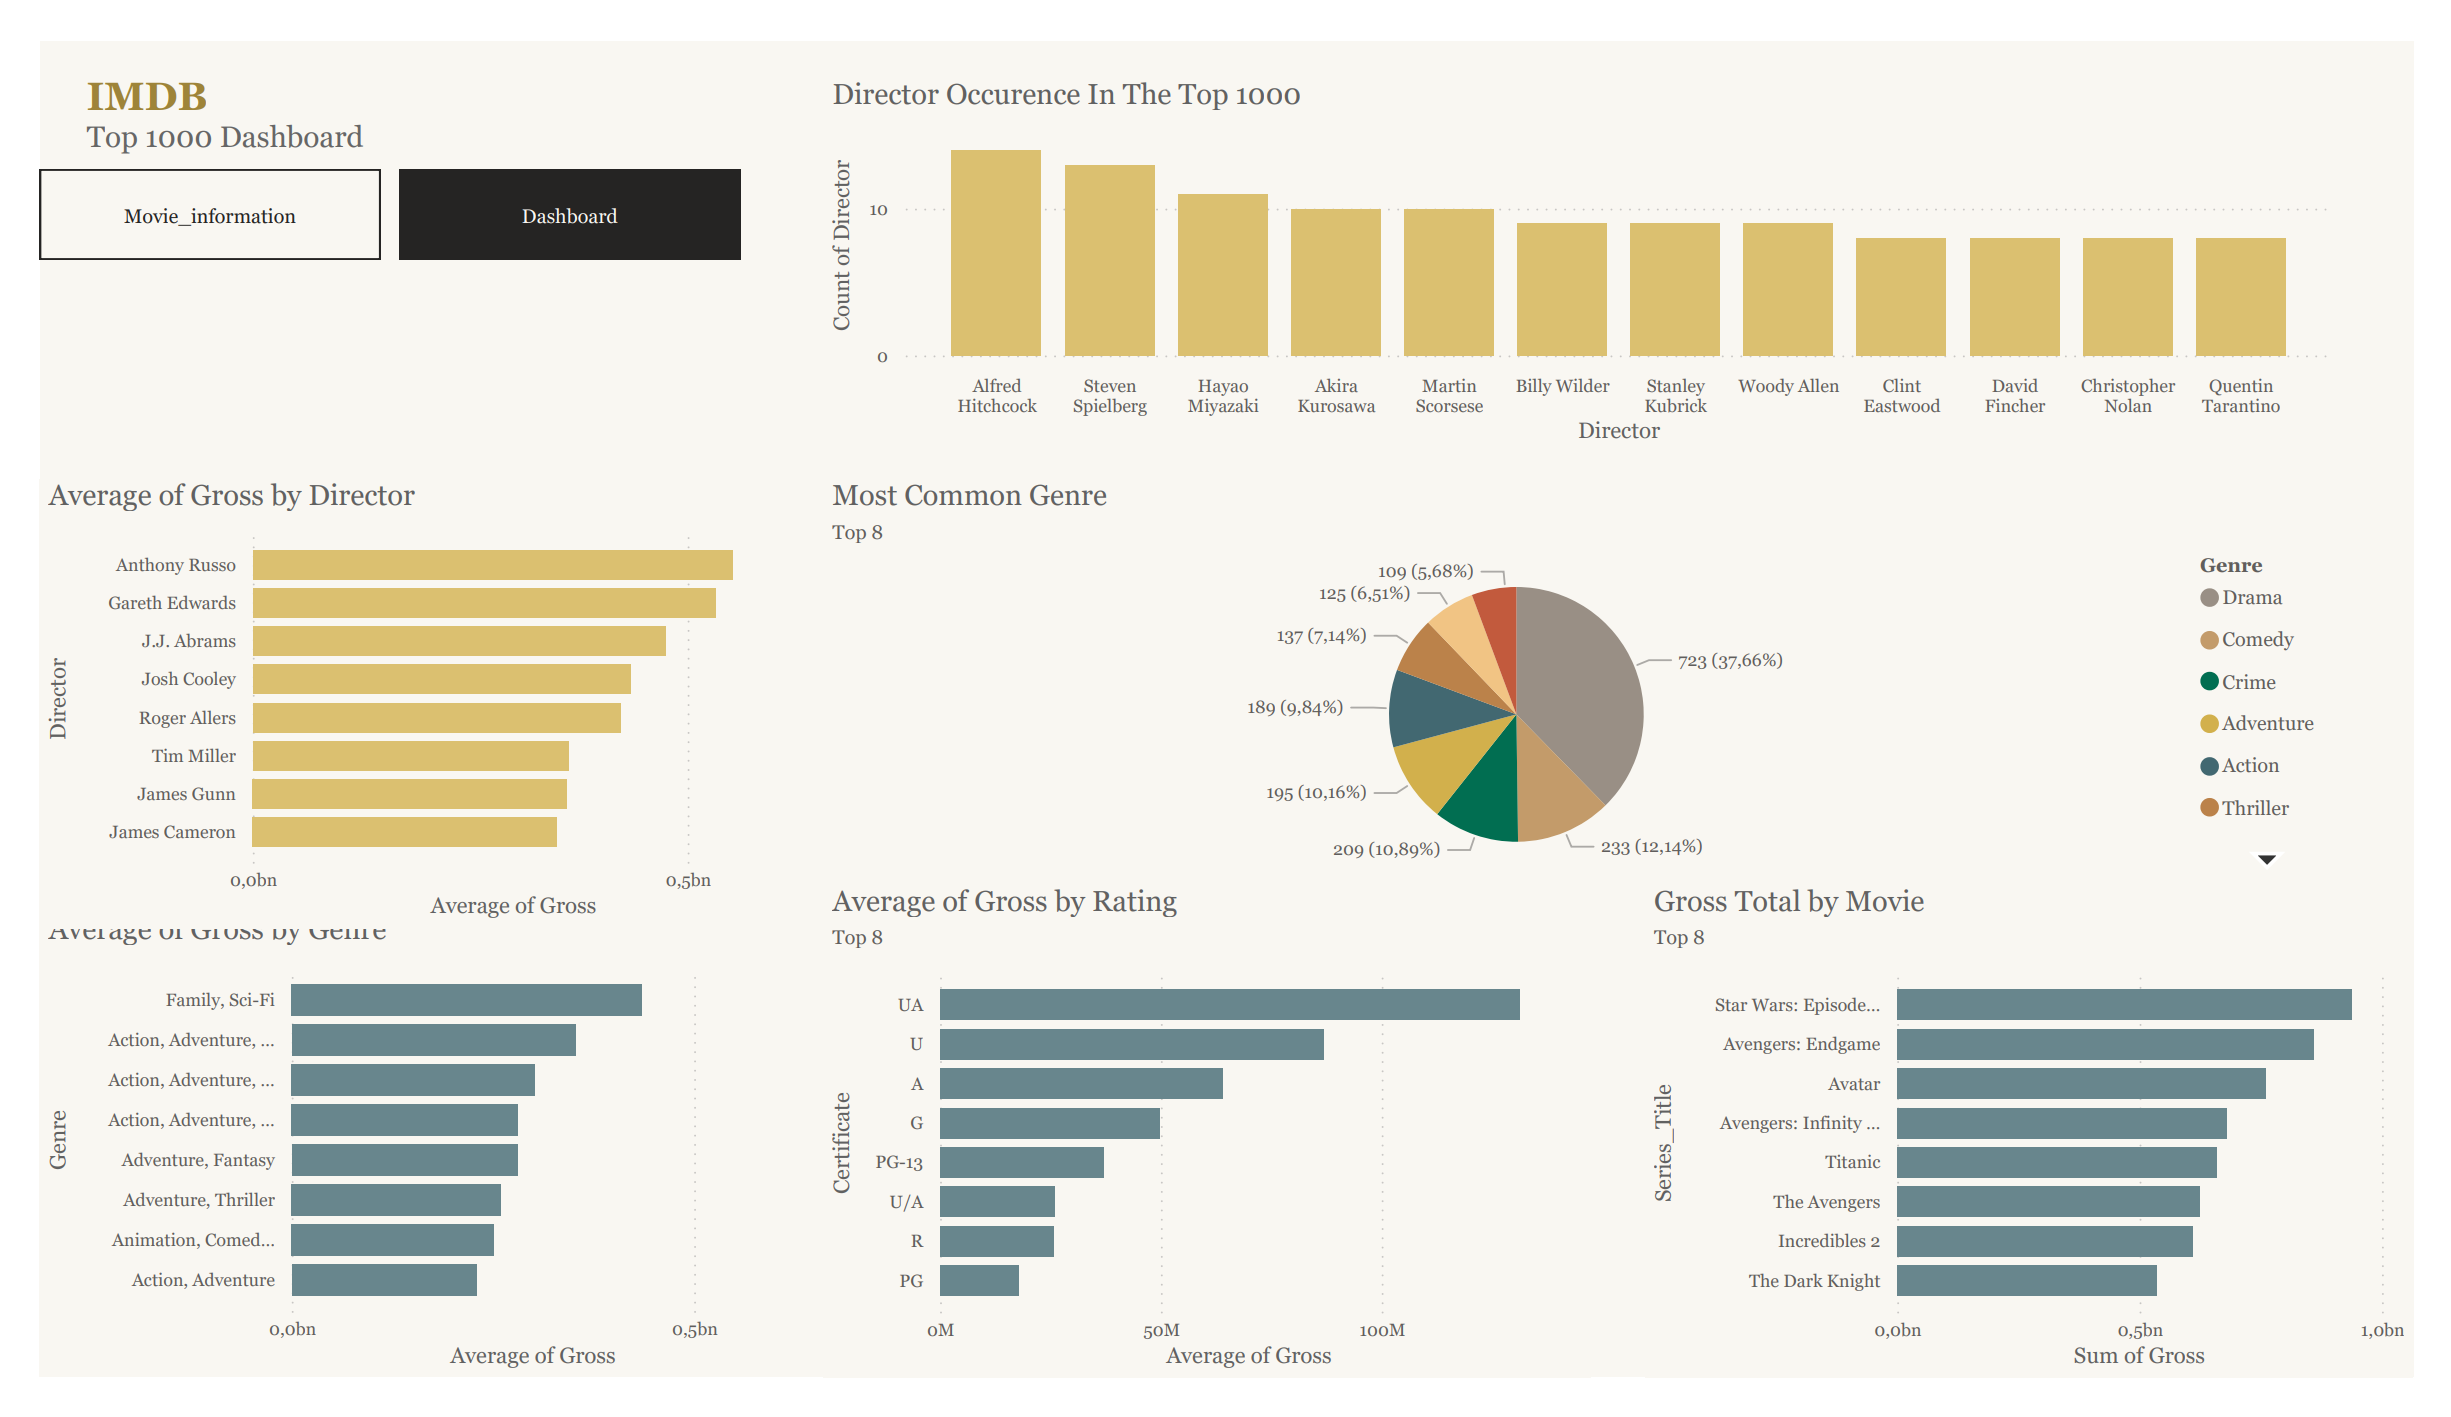

The page's visual inventory and layout, read from the dashboard file:
{"tool":"powerbi","page":{"name":"Dashboard","canvas":[1280,720],"ordinal":1},"visuals":[{"type":"textbox","box":[20.1,0,403.8,69.1],"z":0},{"type":"pageNavigator","box":[0,69.1,379.1,50],"z":1000},{"type":"clusteredBarChart","fields":{"Category":["imdb_top_1000.Genre"],"Y":["imdb_top_1000.Gross"]},"box":[0,469.7,414.4,250.3],"z":2000},{"type":"clusteredBarChart","title":"Gross Total by Movie","fields":{"Category":["imdb_top_1000.Series_Title"],"Y":["imdb_top_1000.Gross"]},"box":[865.6,454.4,414.4,265.6],"z":3000},{"type":"clusteredBarChart","fields":{"Y":["imdb_top_1000.Gross"],"Category":["imdb_top_1000.Director"]},"box":[0,235.9,414.4,242.1],"z":4000},{"type":"pieChart","title":"Most Common Genre","fields":{"Category":["Genre_Compiler.Genre"],"Y":["Genre_Compiler.Genre"]},"box":[422.6,235.9,818.5,218.5],"z":5000},{"type":"clusteredBarChart","title":"Average of Gross by Rating","fields":{"Y":["imdb_top_1000.Gross"],"Category":["imdb_top_1000.Certificate"]},"box":[422.6,454.4,414.4,265.6],"z":6000},{"type":"lineStackedColumnComboChart","title":"Director Occurence In The Top 1000","fields":{"Category":["imdb_top_1000.Director"],"Y":["imdb_top_1000.Director"]},"box":[422.6,19.5,818.5,202.1],"z":7001}]}

Visuals, with their boxes on the page's 1280x720 design canvas (x1, y1, x2, y2). These are canvas units, not pixel positions in the 2451x1417 screenshot, which may show the page scaled, cropped or inside an application window:
textbox: left=20, top=0, right=424, bottom=69
pageNavigator: left=0, top=69, right=379, bottom=119
clusteredBarChart - imdb_top_1000.Genre x imdb_top_1000.Gross: left=0, top=470, right=414, bottom=720
"Gross Total by Movie" clusteredBarChart: left=866, top=454, right=1280, bottom=720
clusteredBarChart - imdb_top_1000.Gross x imdb_top_1000.Director: left=0, top=236, right=414, bottom=478
"Most Common Genre" pieChart: left=423, top=236, right=1241, bottom=454
"Average of Gross by Rating" clusteredBarChart: left=423, top=454, right=837, bottom=720
"Director Occurence In The Top 1000" lineStackedColumnComboChart: left=423, top=20, right=1241, bottom=222
